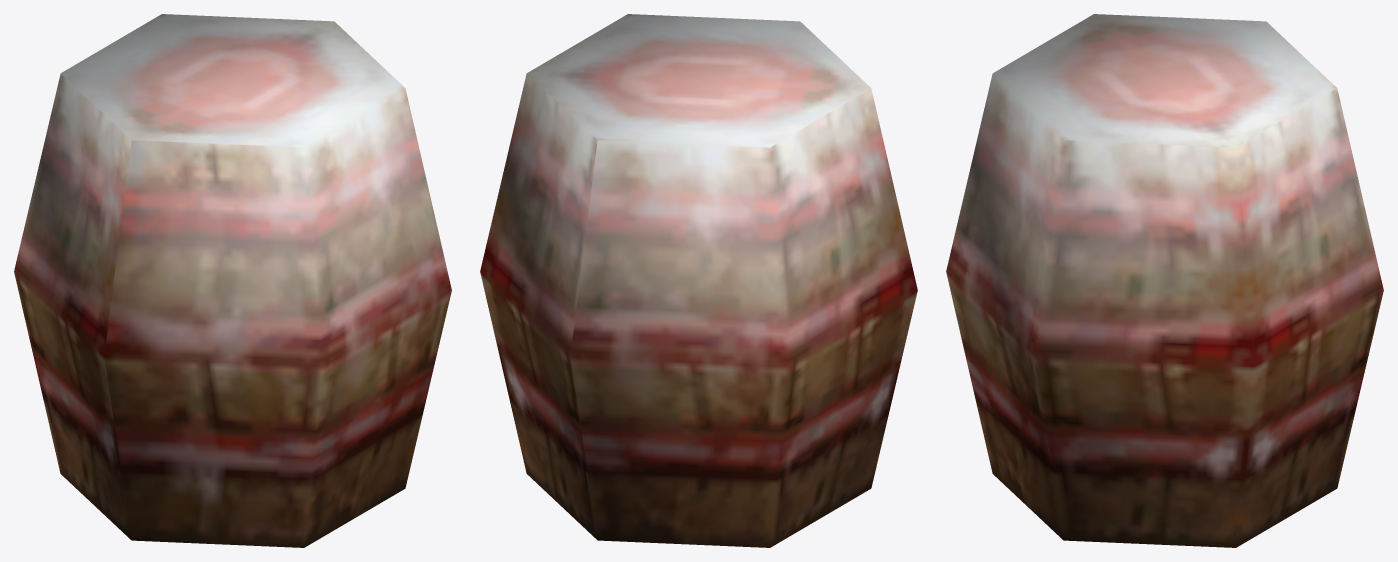
Rendered from SM_Enclosure_22.fbx.
3 renders of one model, left to right at view 1: azimuth 30°, elevation 25°; view 2: azimuth 150°, elevation 25°; view 3: azimuth 270°, elevation 25°, orthographic.
Visible parts, largest first — view 1: SM_Enclosure_22; view 2: SM_Enclosure_22; view 3: SM_Enclosure_22.
Part boxes in pixels (x1,y1,x2,y2): SM_Enclosure_22: (14,14,451,547); SM_Enclosure_22: (480,14,917,547); SM_Enclosure_22: (946,14,1383,547).
Bounding box in the file's own units: 0.602 × 0.6626 × 0.6566.
